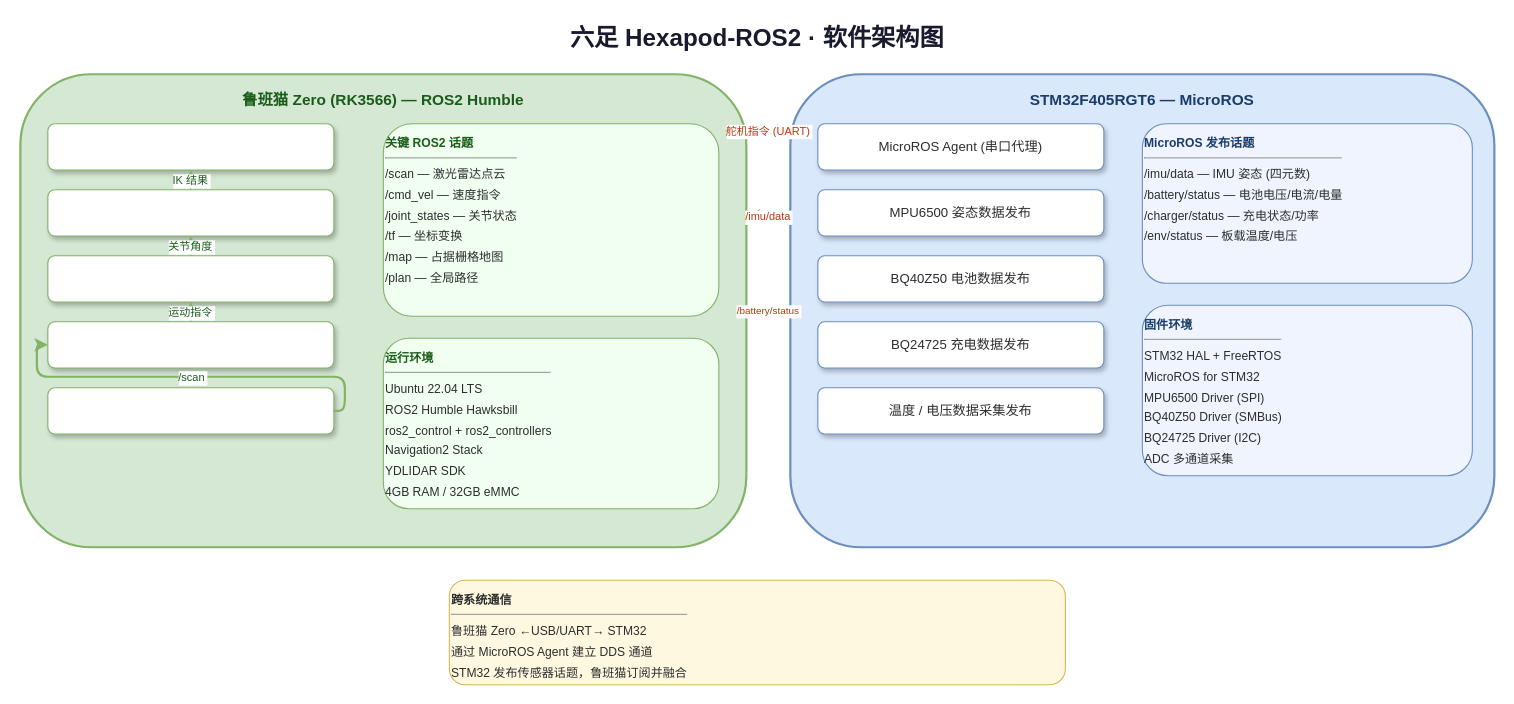
This 1514x704 diagram has some shape labels left out. Here are the shapes that lost their labels. From the top down, the centre of each, then its label:
At (191,148): "ros2_control 舵机控制节点".
At (191,214): "逆运动学解算 (IK Solver)".
At (191,280): "步态生成器 (Gait Generator)".
At (191,346): "路径规划与导航 (Navigation2)".
At (191,412): "YDLIDAR X2 点云采集节点".
